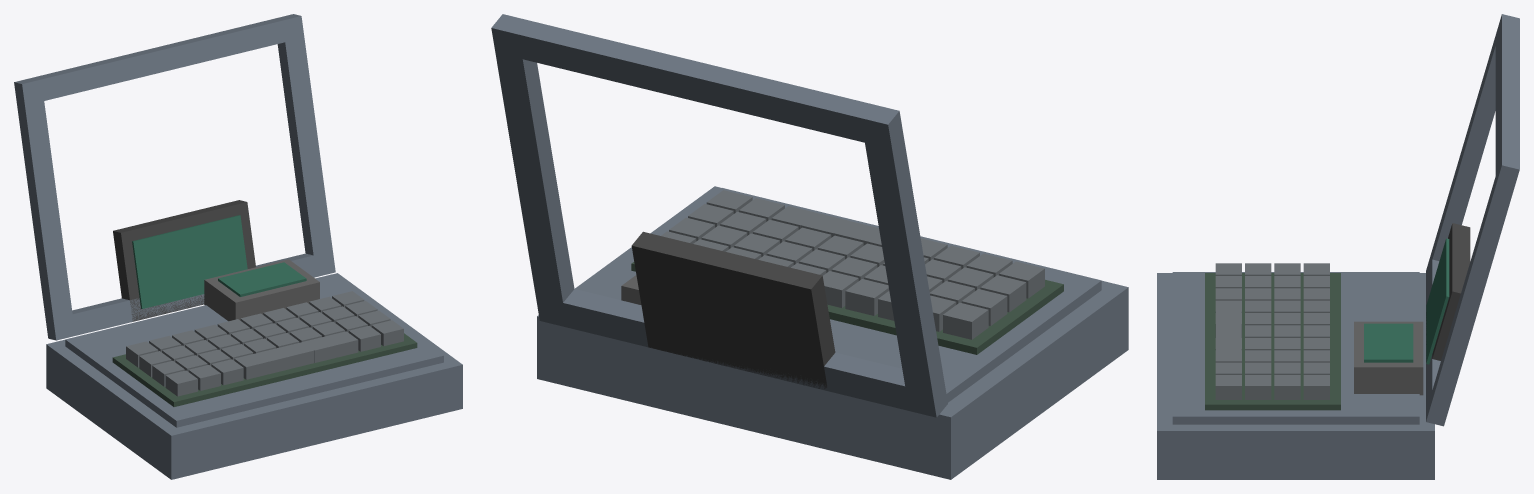
The model's file is build-pocket-four.glb.
The picture shows the model from 3 angles, left to right: view 1: azimuth 30°, elevation 25°; view 2: azimuth 150°, elevation 25°; view 3: azimuth 270°, elevation 25°; orthographic projection. The views are drawn at different scales.
Visible parts, largest first — view 1: geometry_0, geometry_1, geometry_2, geometry_7, geometry_5, geometry_4, geometry_6, geometry_3, geometry_8, geometry_49, geometry_50, geometry_44 (+7 smaller); view 2: geometry_0, geometry_6, geometry_2, geometry_4, geometry_5, geometry_1, geometry_3, geometry_8, geometry_9, geometry_44, geometry_12, geometry_19 (+3 smaller); view 3: geometry_0, geometry_1, geometry_5, geometry_8, geometry_2, geometry_4, geometry_49, geometry_6, geometry_50, geometry_7, geometry_3, geometry_18 (+4 smaller).
Part boxes in pixels (<box>): geometry_0: <box>46,273,462,479</box>; geometry_1: <box>65,274,443,427</box>; geometry_2: <box>14,14,303,105</box>; geometry_7: <box>132,215,247,308</box>; geometry_5: <box>275,14,335,276</box>; geometry_4: <box>15,79,74,339</box>; geometry_6: <box>113,200,255,321</box>; geometry_3: <box>45,251,335,340</box>; geometry_8: <box>112,333,417,406</box>; geometry_49: <box>204,259,319,321</box>; geometry_50: <box>218,262,306,296</box>; geometry_44: <box>255,336,338,374</box>; geometry_0: <box>537,186,1128,479</box>; geometry_6: <box>631,231,835,388</box>; geometry_2: <box>491,14,903,148</box>; geometry_4: <box>861,105,947,416</box>; geometry_5: <box>491,14,574,327</box>; geometry_1: <box>582,188,1101,402</box>; geometry_3: <box>539,289,947,417</box>; geometry_8: <box>631,262,1063,354</box>; geometry_9: <box>943,302,988,339</box>; geometry_44: <box>799,213,879,245</box>; geometry_12: <box>845,279,889,315</box>; geometry_19: <box>961,289,1007,325</box>; geometry_0: <box>1157,273,1434,479</box>; geometry_1: <box>1172,272,1419,424</box>; geometry_5: <box>1426,155,1519,425</box>; geometry_8: <box>1205,273,1340,410</box>; geometry_2: <box>1495,14,1519,191</box>; geometry_4: <box>1426,14,1519,280</box>; geometry_49: <box>1354,321,1423,395</box>; geometry_6: <box>1426,223,1470,360</box>; geometry_50: <box>1364,323,1413,362</box>; geometry_7: <box>1426,238,1449,364</box>; geometry_3: <box>1426,250,1449,426</box>; geometry_18: <box>1303,375,1329,399</box>.
Bounding box in the file's own units: 0.242 × 0.2226 × 0.235.
